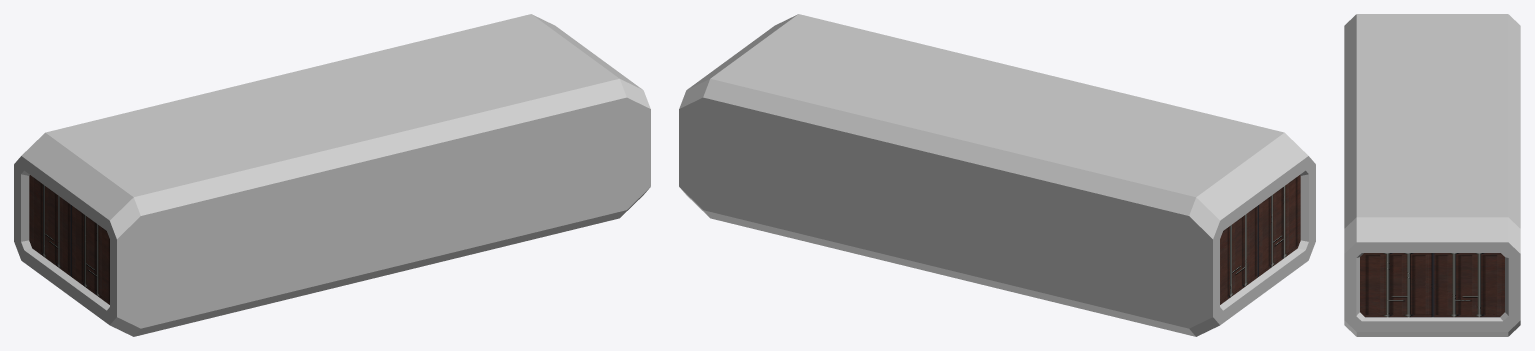
File: cargo_container.fbx
3 renders of one model, left to right at view 1: azimuth 30°, elevation 25°; view 2: azimuth 150°, elevation 25°; view 3: azimuth 270°, elevation 25°, orthographic. The views are drawn at different scales.
Parts seen in each view (by area): view 1: Cube; view 2: Cube; view 3: Cube.
Boxes of the visible parts, x1,y1,x2,y2 form: Cube: (14,14,650,336); Cube: (679,14,1315,336); Cube: (1344,14,1520,336).
Size of the model in its own units: 600 by 150 by 200.
